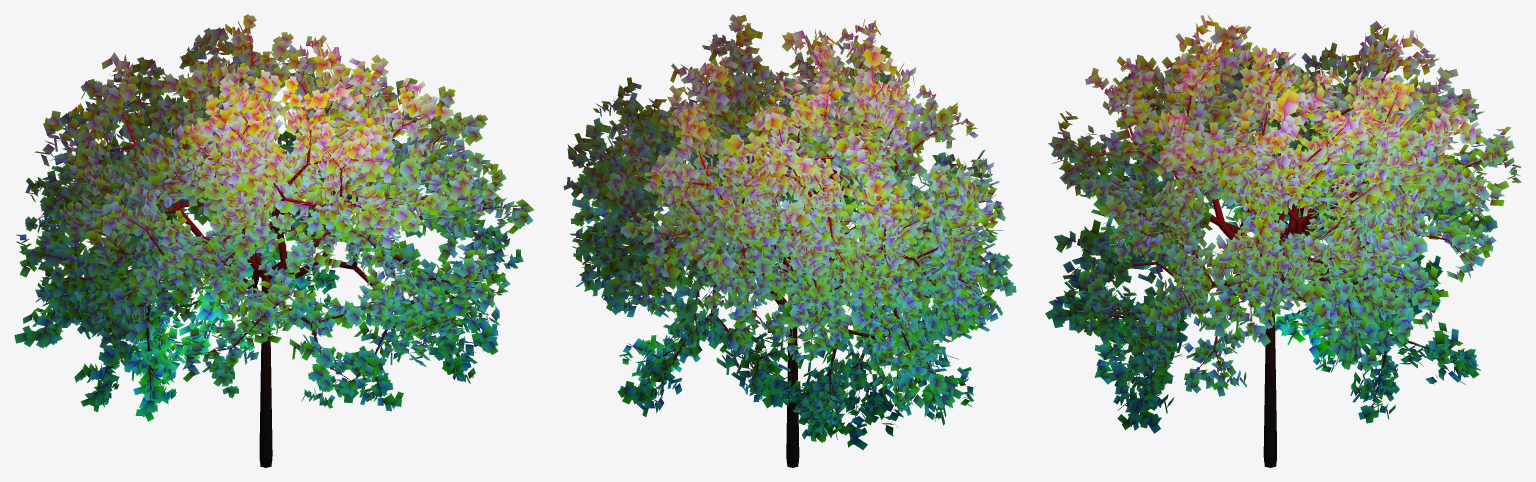
File: Tree_MatureHornbeamA.fbx
3 views of the same model, side by side, from view 1: azimuth 30°, elevation 25°; view 2: azimuth 150°, elevation 25°; view 3: azimuth 270°, elevation 25° (orthographic). The views are drawn at different scales.
Visible parts, largest first — view 1: MatureHornbeamA_LOD0; view 2: MatureHornbeamA_LOD0; view 3: MatureHornbeamA_LOD0.
Part boxes in pixels (bbox=[...]): MatureHornbeamA_LOD0: bbox=[14, 14, 534, 467]; MatureHornbeamA_LOD0: bbox=[563, 14, 1016, 467]; MatureHornbeamA_LOD0: bbox=[1045, 14, 1521, 467].
Size of what is drawn, in the model's own units: 12.74 by 11.4 by 11.61.
